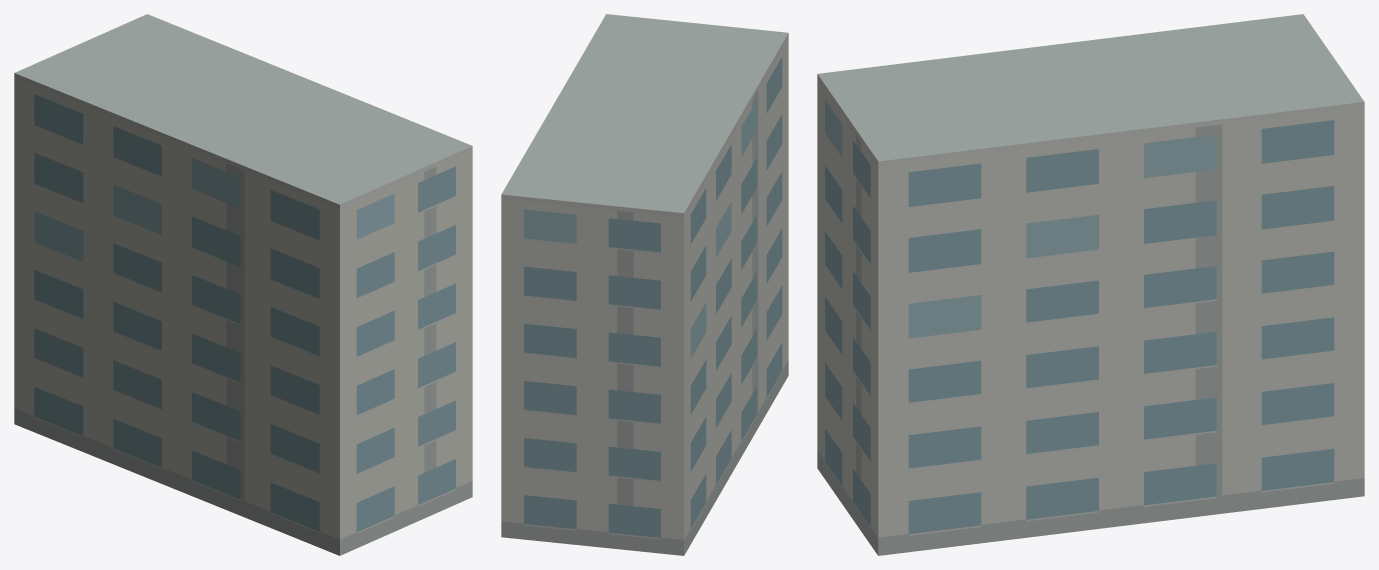
File: survey-upis-32831333.glb
3 renders of one model, left to right at view 1: azimuth 30°, elevation 25°; view 2: azimuth 150°, elevation 25°; view 3: azimuth 270°, elevation 25°, orthographic. The views are drawn at different scales.
Visible parts, largest first — view 1: survey-upis-32831333.tmp; view 2: survey-upis-32831333.tmp; view 3: survey-upis-32831333.tmp.
Boxes of the visible parts, <box> form: survey-upis-32831333.tmp: <box>14,14,472,555</box>; survey-upis-32831333.tmp: <box>501,14,788,555</box>; survey-upis-32831333.tmp: <box>817,14,1364,555</box>.
Size of the model in its own units: 15.08 by 18.8 by 23.64.
